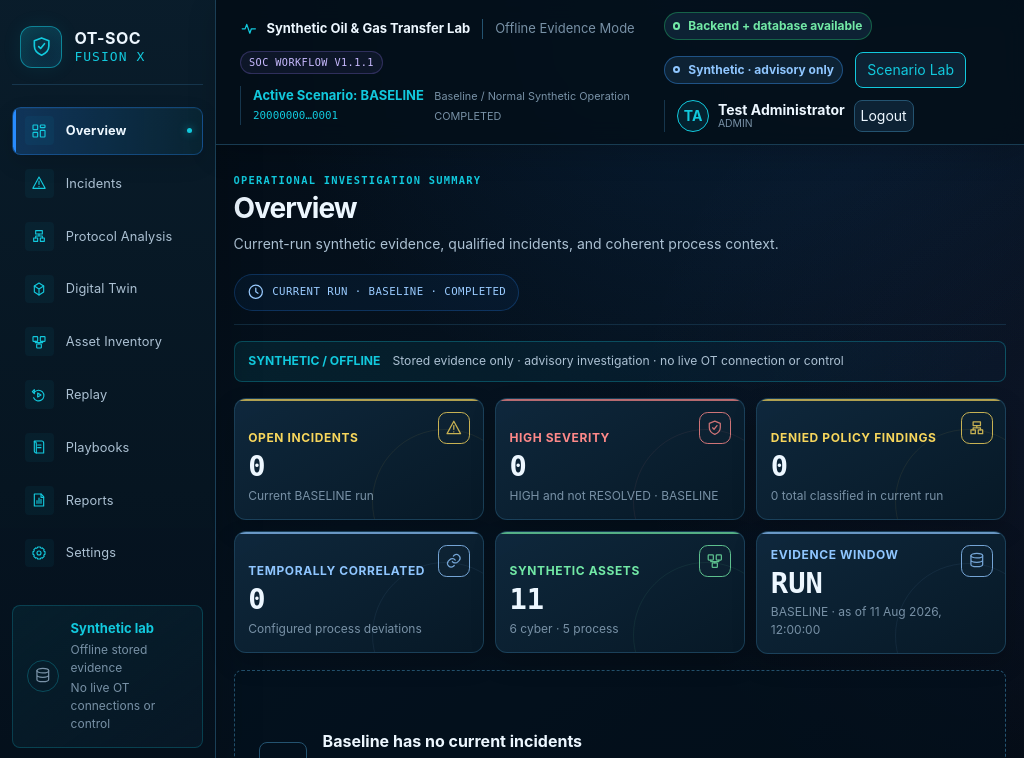
Test: v1.1 authenticated SOC workflow foundation › shows the exact approved catalog and reserves Scenario Lab mutations for ADMIN
This screenshot has width=1024, height=758.
Expected: the heading "Overview" is shown, [234,191,357,225]
Click the button "Scenario Lab" at (911, 70), box [855,52,966,88]
(page scrolled)
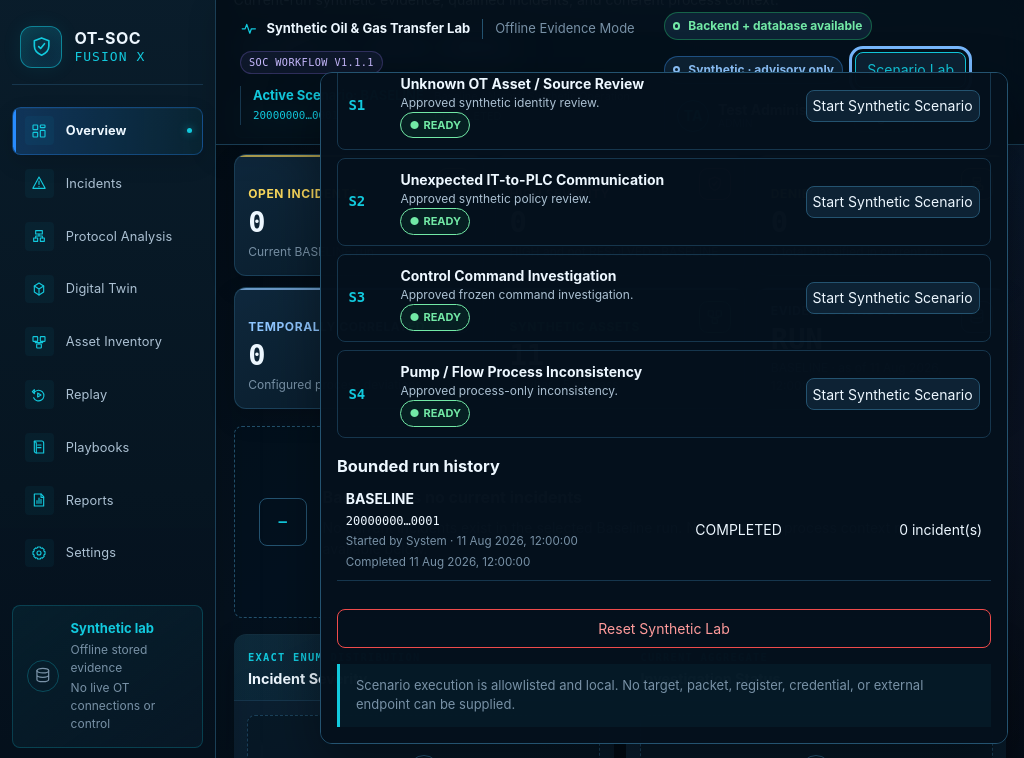
Now the text "S1" is shown, box [348,97,365,113]
Now the text "S2" is shown, box [348,193,365,209]
Now the text "S3" is shown, box [348,290,365,306]
